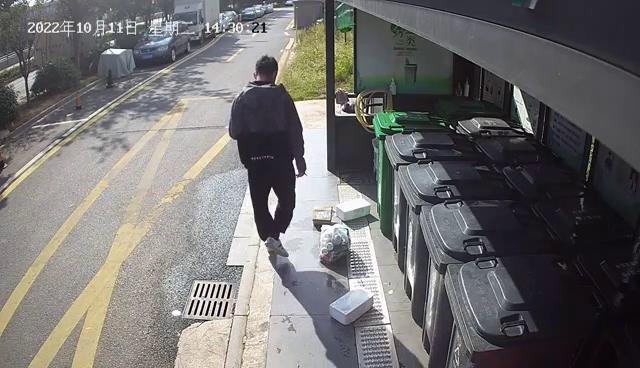person: (227, 54, 307, 258)
suliaozhipin: (318, 222, 352, 268)
zhizhipin: (329, 286, 375, 326), (335, 197, 372, 221), (311, 205, 334, 227)
